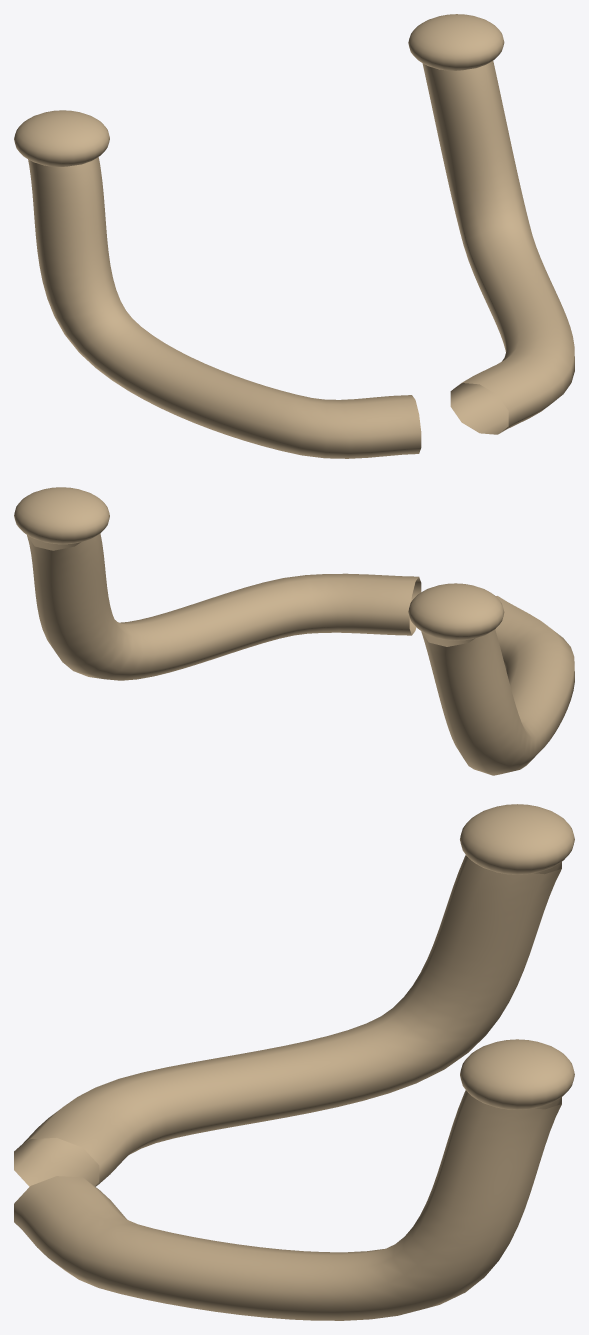
The model's file is mandible.glb.
3 views of the same model, one above another, from view 1: azimuth 30°, elevation 25°; view 2: azimuth 150°, elevation 25°; view 3: azimuth 270°, elevation 25° (orthographic). The views are drawn at different scales.
Visible parts, largest first — view 1: mandible:hemimandible--1, mandible:hemimandible-1, mandible:condyle-1, mandible:condyle--1; view 2: mandible:hemimandible-1, mandible:hemimandible--1, mandible:condyle-1, mandible:condyle--1; view 3: mandible:hemimandible--1, mandible:hemimandible-1, mandible:condyle--1, mandible:condyle-1.
Boxes of the visible parts, x1,y1,x2,y2 form: mandible:hemimandible--1: [28, 157, 421, 458]; mandible:hemimandible-1: [422, 61, 574, 434]; mandible:condyle-1: [408, 14, 504, 70]; mandible:condyle--1: [14, 110, 109, 166]; mandible:hemimandible-1: [27, 533, 421, 680]; mandible:hemimandible--1: [421, 596, 574, 775]; mandible:condyle-1: [14, 487, 109, 544]; mandible:condyle--1: [408, 583, 504, 640]; mandible:hemimandible--1: [14, 855, 561, 1186]; mandible:hemimandible-1: [14, 1090, 561, 1320]; mandible:condyle--1: [460, 804, 574, 874]; mandible:condyle-1: [460, 1039, 574, 1109].
Size of the model in its own units: 0.5313 by 0.2484 by 0.4416.
